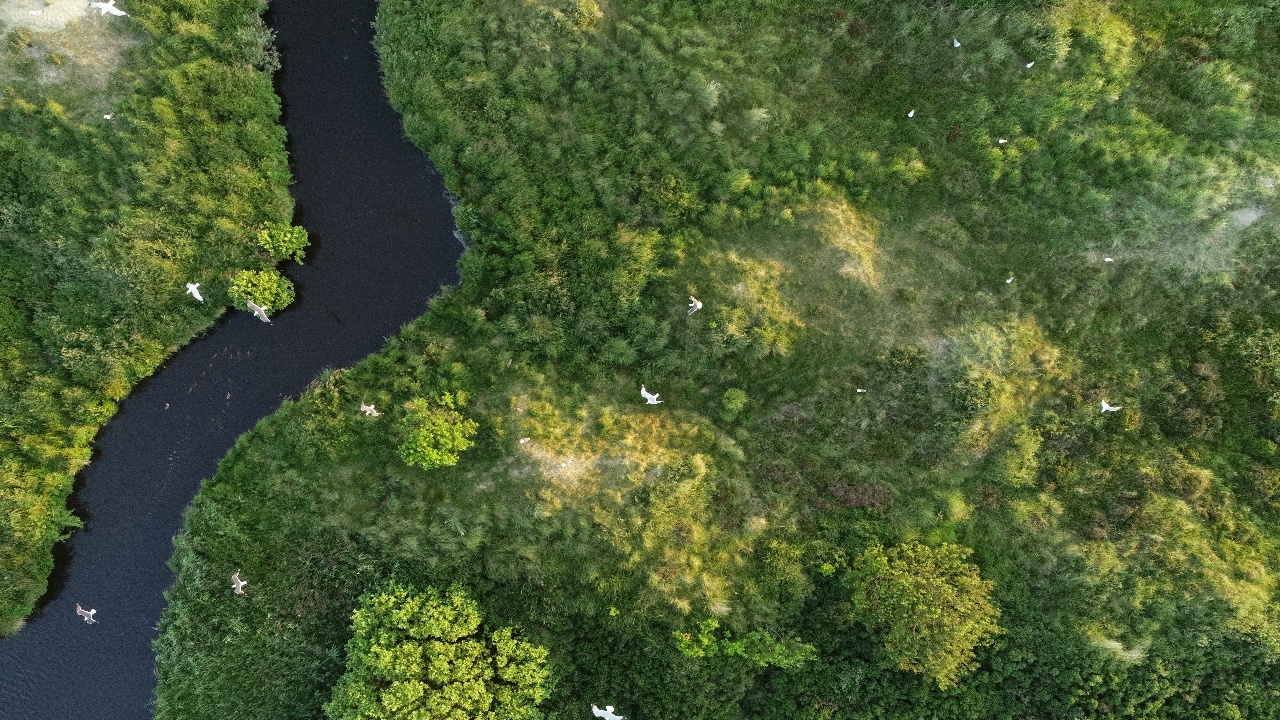Bird: (175, 271, 216, 308), (241, 292, 282, 329), (68, 596, 109, 633), (216, 561, 257, 598), (351, 389, 392, 426), (505, 420, 546, 457), (629, 377, 670, 414), (678, 284, 719, 321), (842, 371, 883, 408), (1095, 385, 1136, 422), (1095, 239, 1136, 276), (986, 259, 1027, 296), (984, 125, 1025, 162), (1009, 43, 1050, 80), (941, 23, 982, 60), (893, 93, 934, 130), (84, 94, 125, 131)
